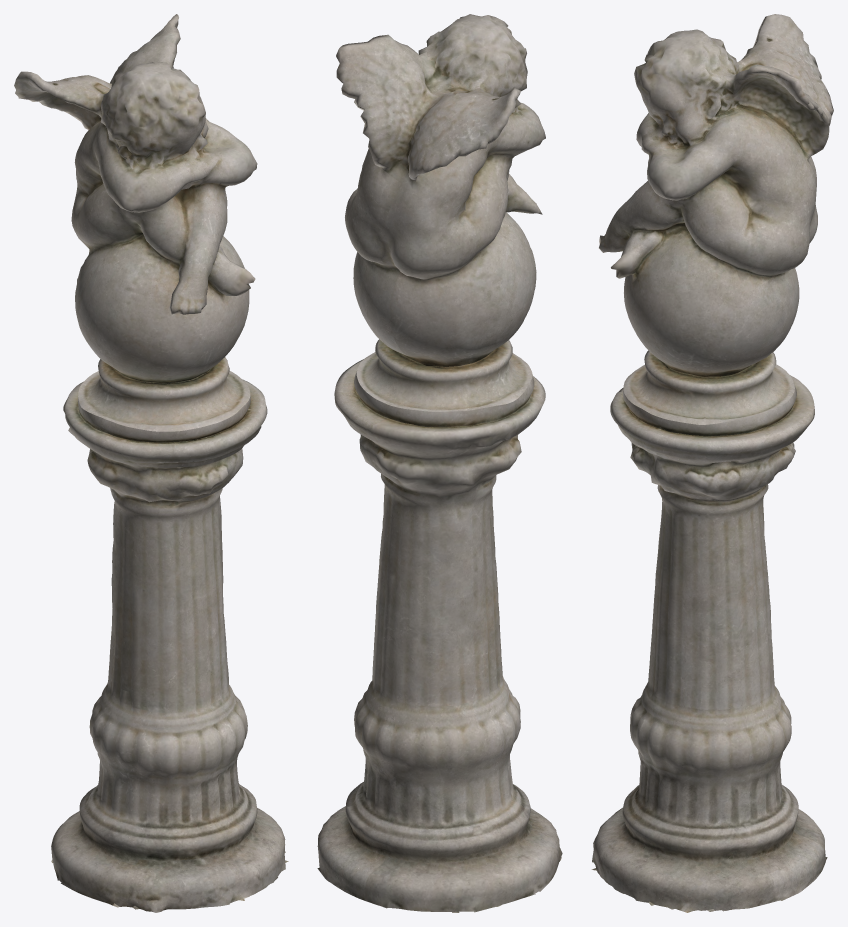
3 views of the same model, side by side, from view 1: azimuth 30°, elevation 25°; view 2: azimuth 150°, elevation 25°; view 3: azimuth 270°, elevation 25° (orthographic). The views are drawn at different scales.
Visible parts, largest first — view 1: statueLP; view 2: statueLP; view 3: statueLP.
Part boxes in pixels (box(x1,y1,x2,y2)): statueLP: box(14, 14, 288, 912); statueLP: box(317, 14, 562, 912); statueLP: box(591, 14, 833, 912).
Size of the model in its own units: 0.4473 by 1.58 by 0.4289.
Materials: 1 (1 with a texture image).
